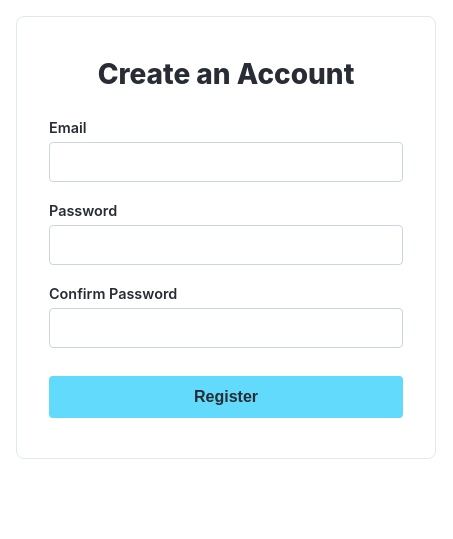
Test: RegisterPage › integration: API submission › displays server error message when registration fails with email conflict
This screenshot has width=453, height=539.
Type "user@example.com" into the field labelled "Email" at (226, 162), box 49,142 -> 403,182
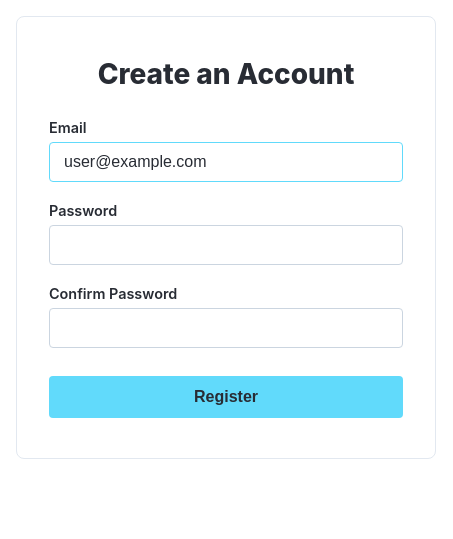
Type "password123" into the password field labelled "Password" at (226, 245), box 49,225 -> 403,265
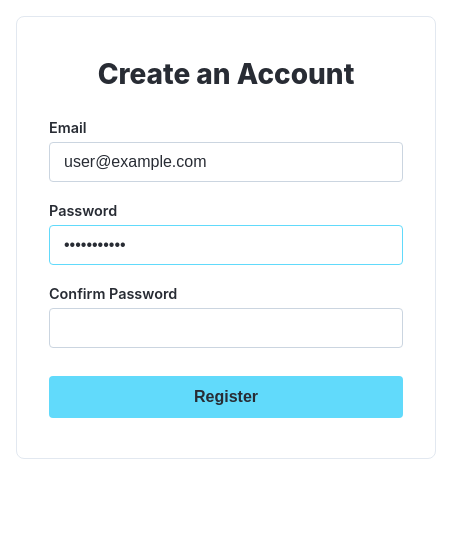
Type "password123" into the password field labelled "Confirm Password" at (226, 328), box 49,308 -> 403,348
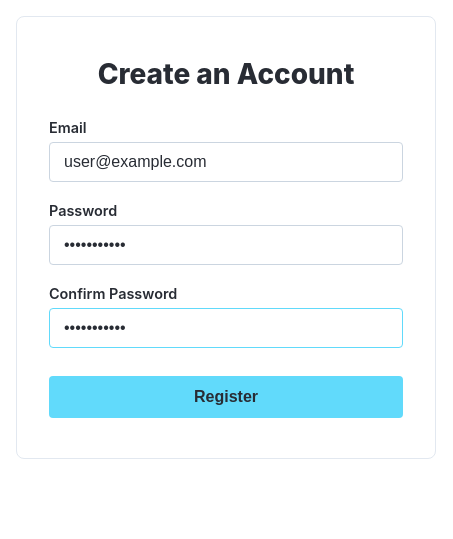
Click the button "Register" at (226, 397), box 49,376 -> 403,418
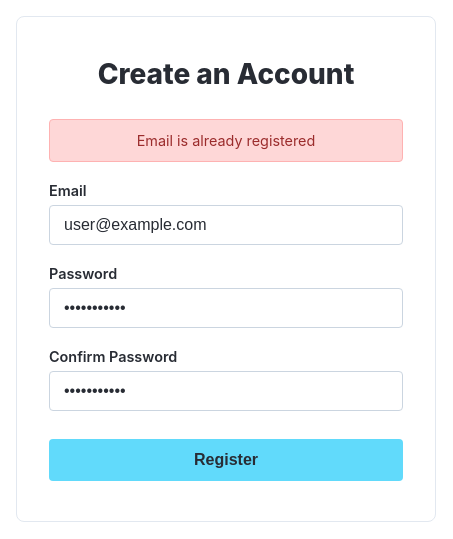
Check: the text "Email is already registered" is shown, box 49,119 -> 403,162
